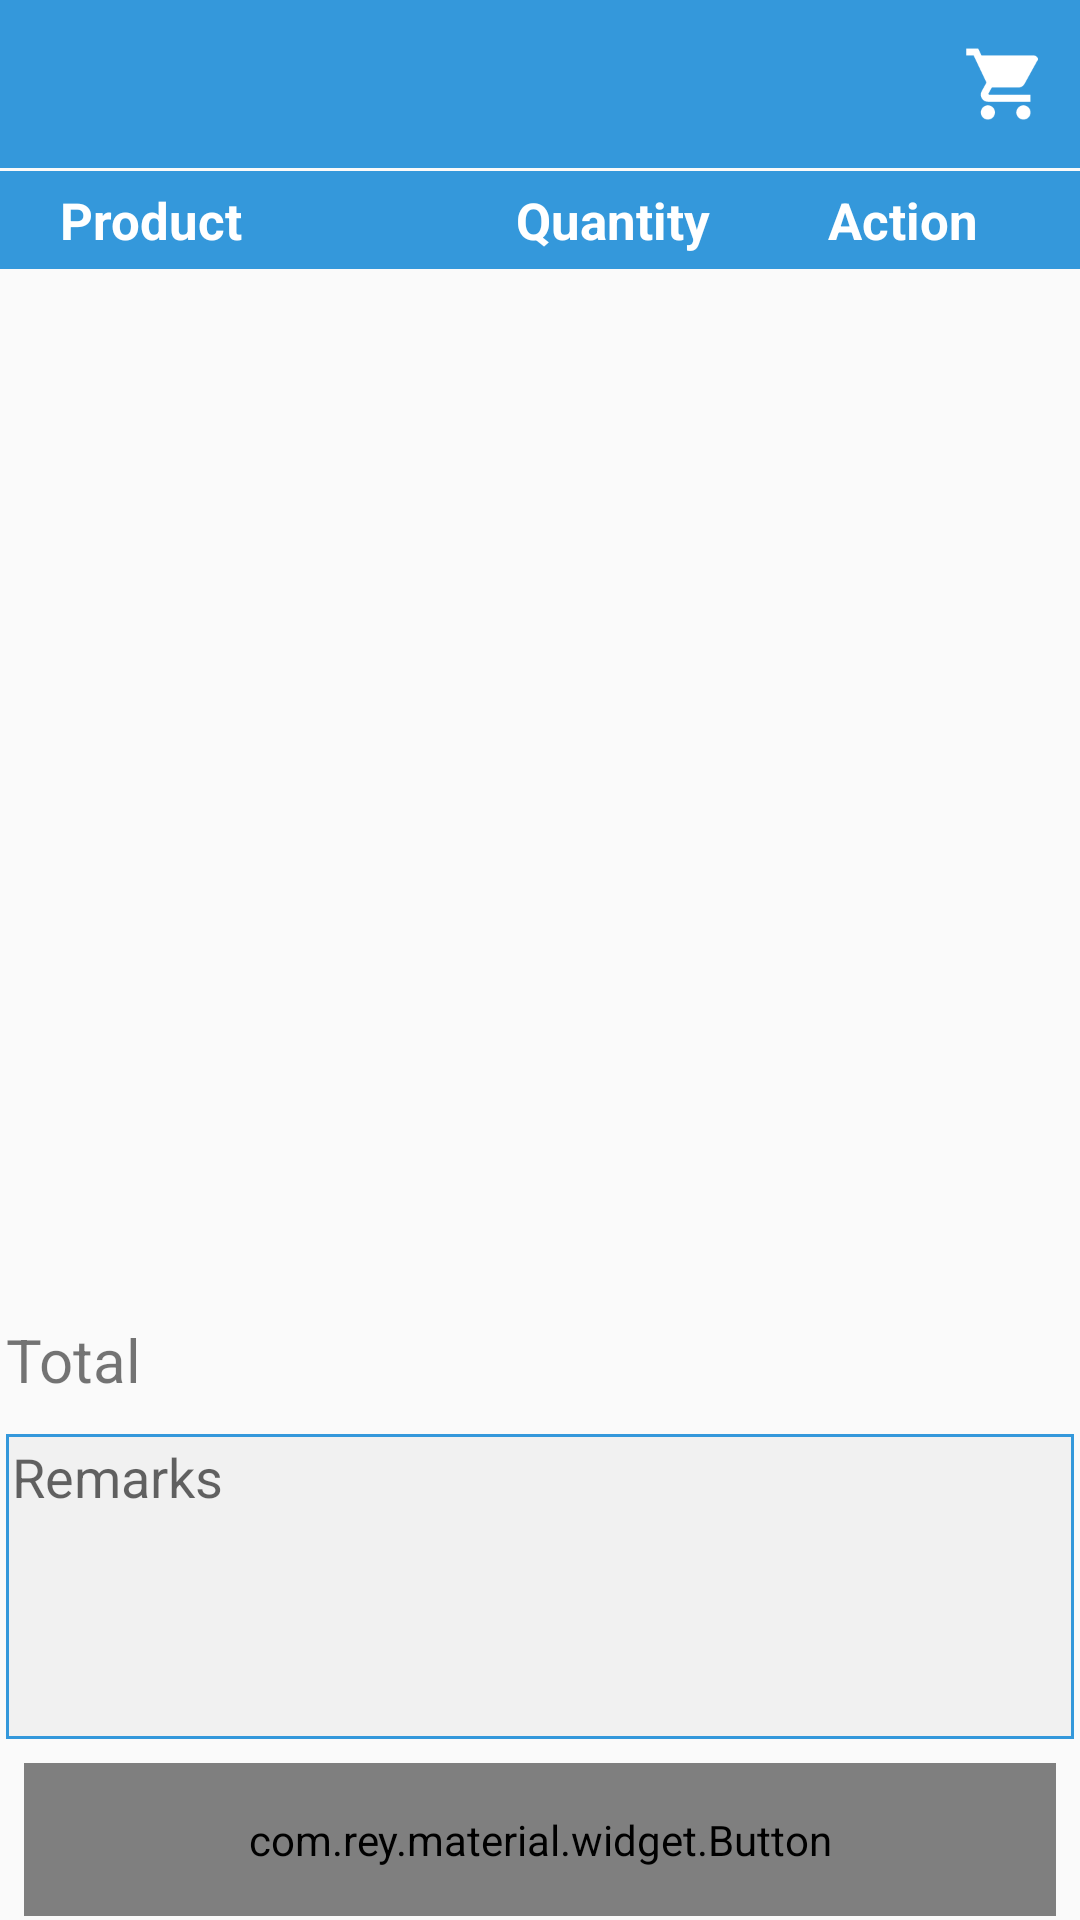

Icons on this 1080×1920 Android screen, each with its box as (left=x1, top=y1, right=x2, bottom=y2):
cart: (left=966, top=48, right=1038, bottom=120)
